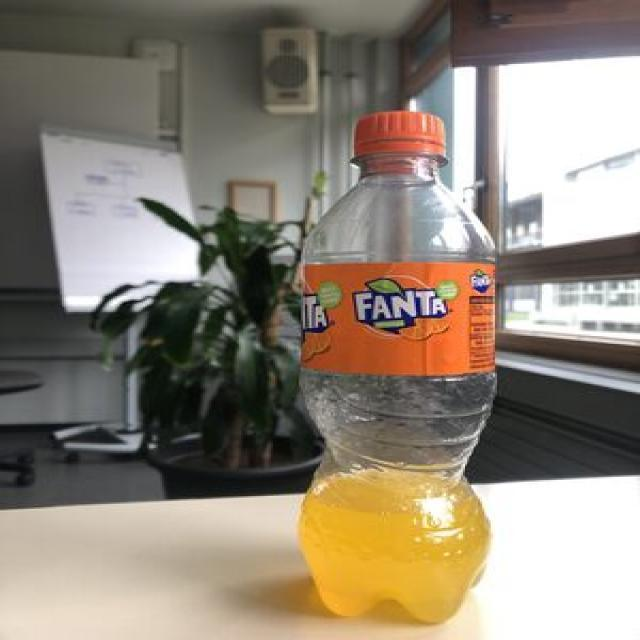Fanta: (293, 109, 502, 623)
